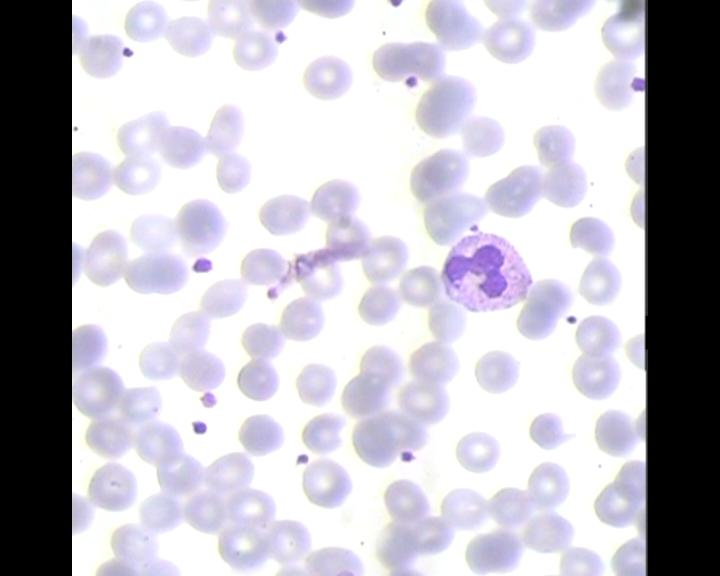neut: (436, 230, 532, 312)
